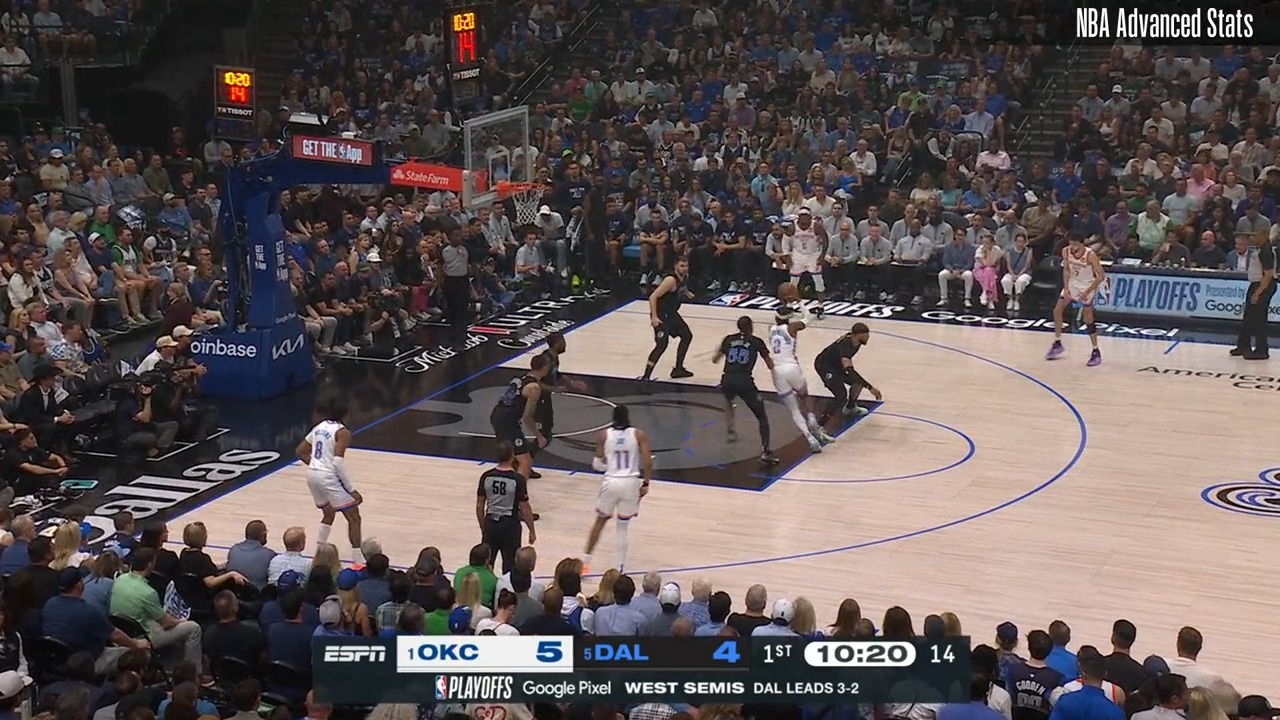basketball: (779, 280, 799, 304)
